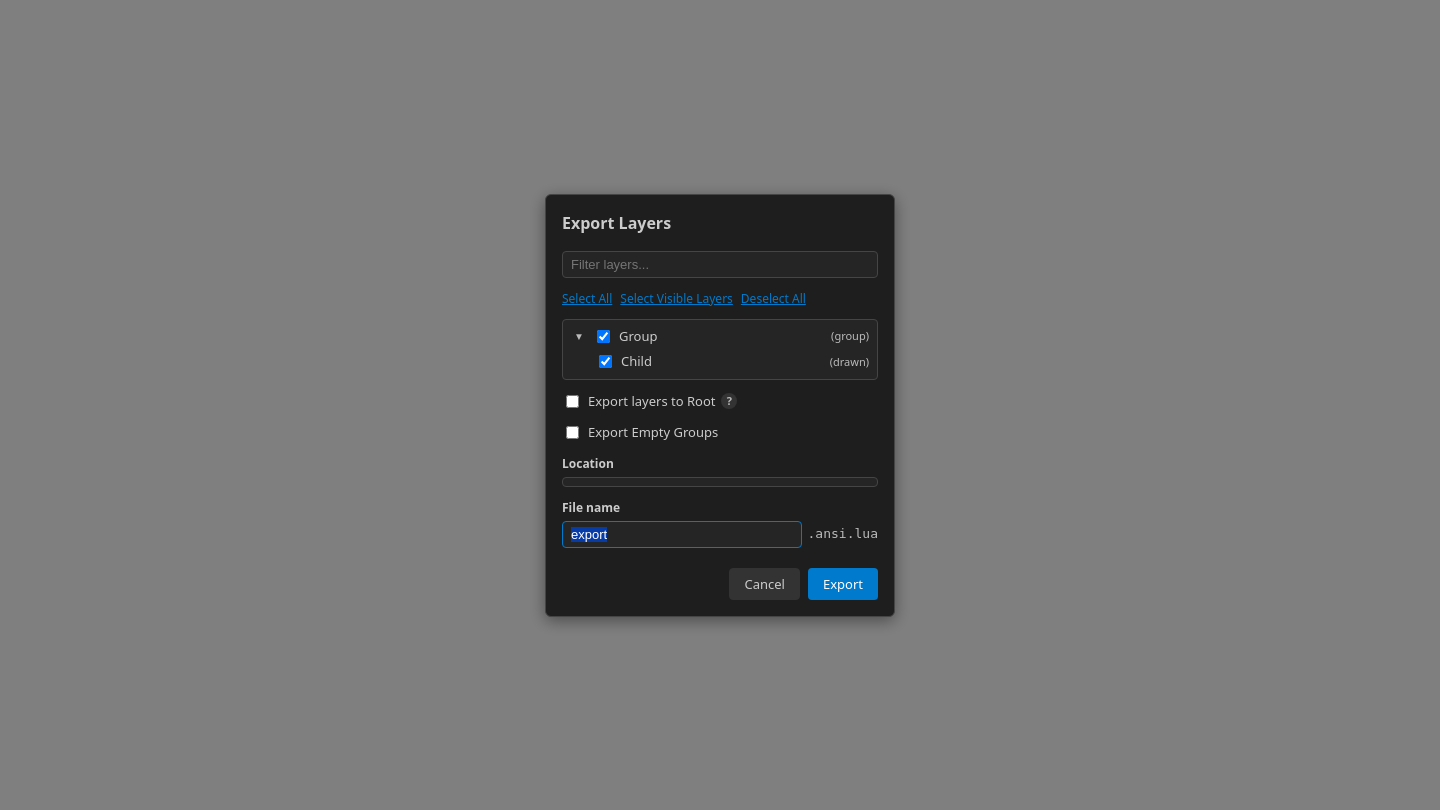
Test: ExportLayersDialog — tags, groups, dedup › collapsible groups › clicking collapse toggle again shows children
This screenshot has width=1440, height=810.
Click the button with test id "export-collapse-g-1".
click(579, 336)  # box [571,328,587,344]
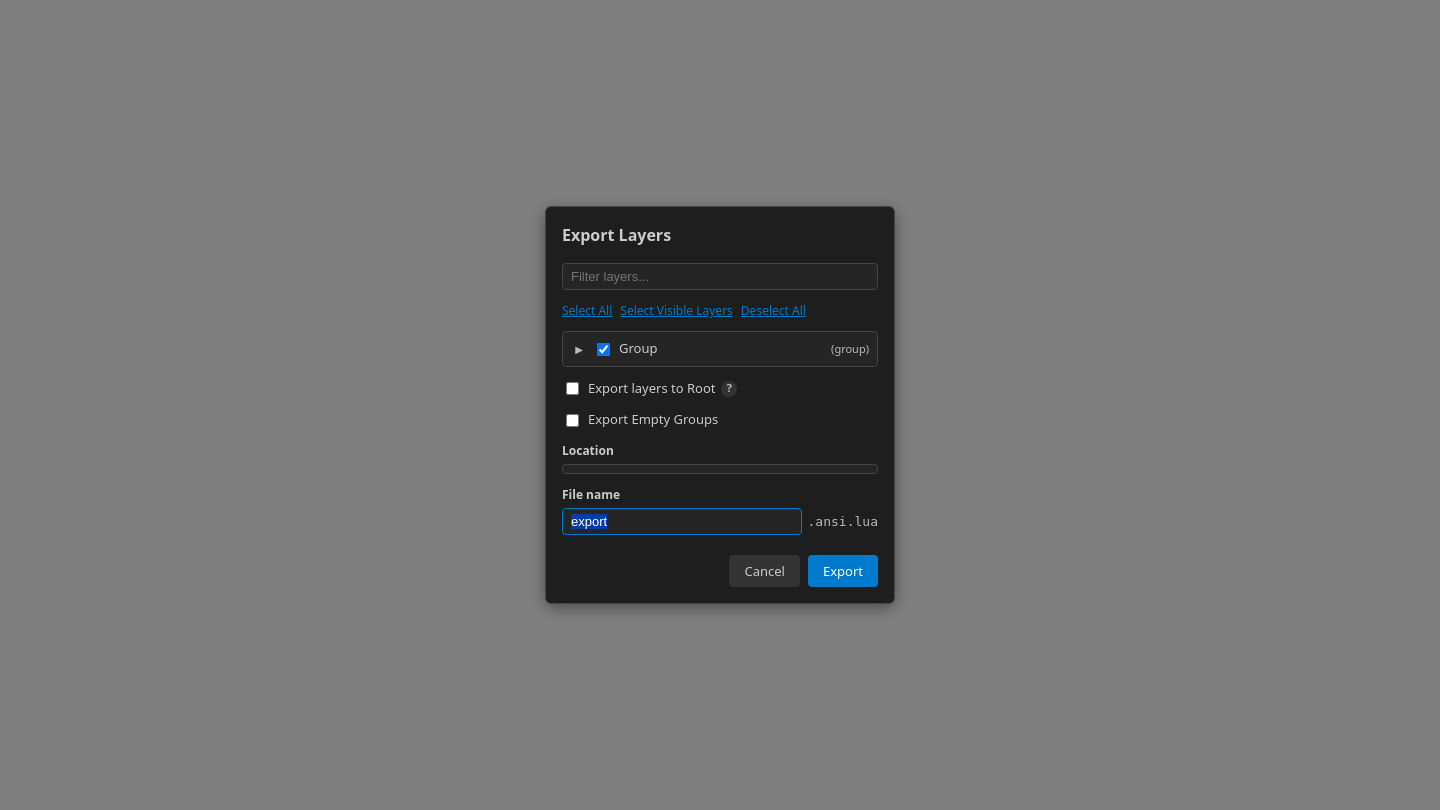
Click the button with test id "export-collapse-g-1".
click(579, 349)  # box [571,341,587,357]
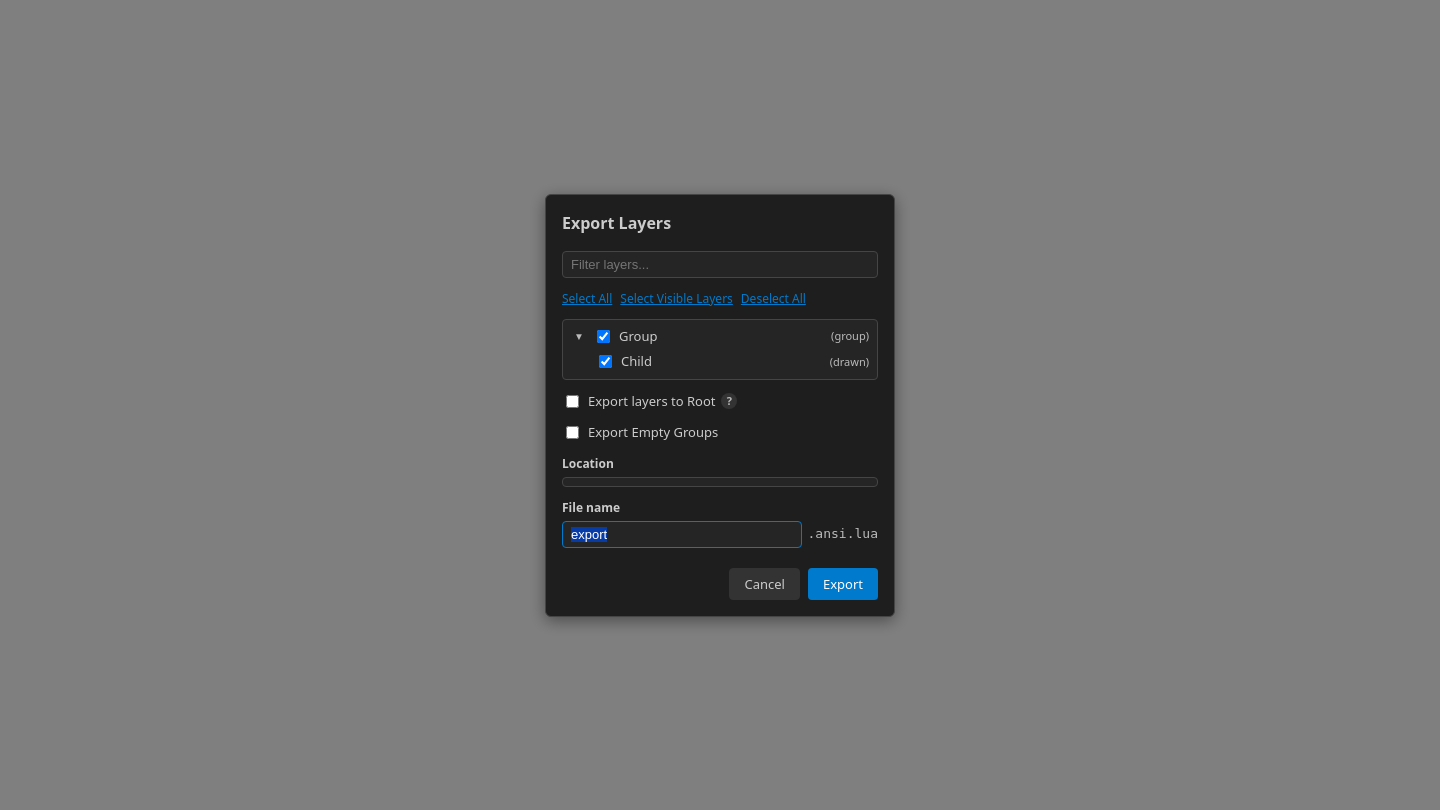
Result: the element with test id "export-layer-c-1" is shown at [563,349,877,374]
